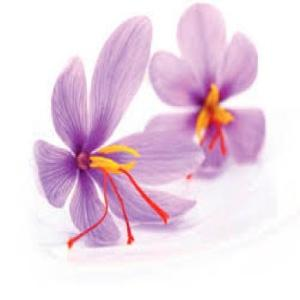Saffron: (37, 17, 198, 248), (142, 3, 264, 183)
